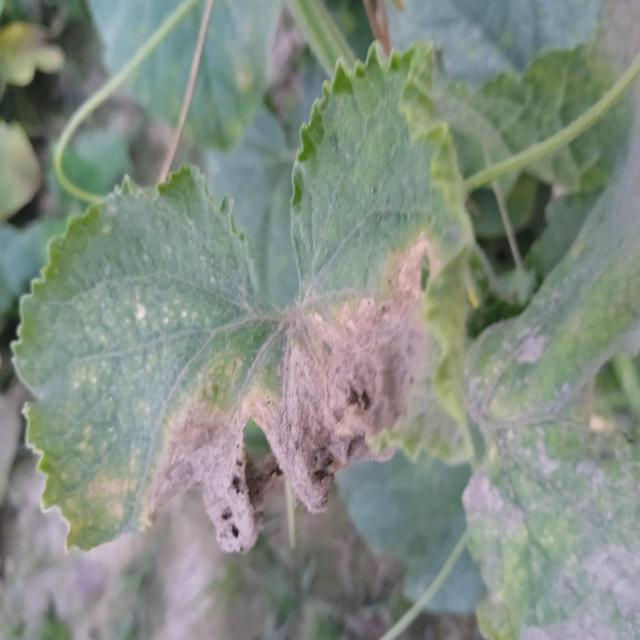cucumber_gummy: (7, 41, 484, 571), (454, 419, 640, 640)
